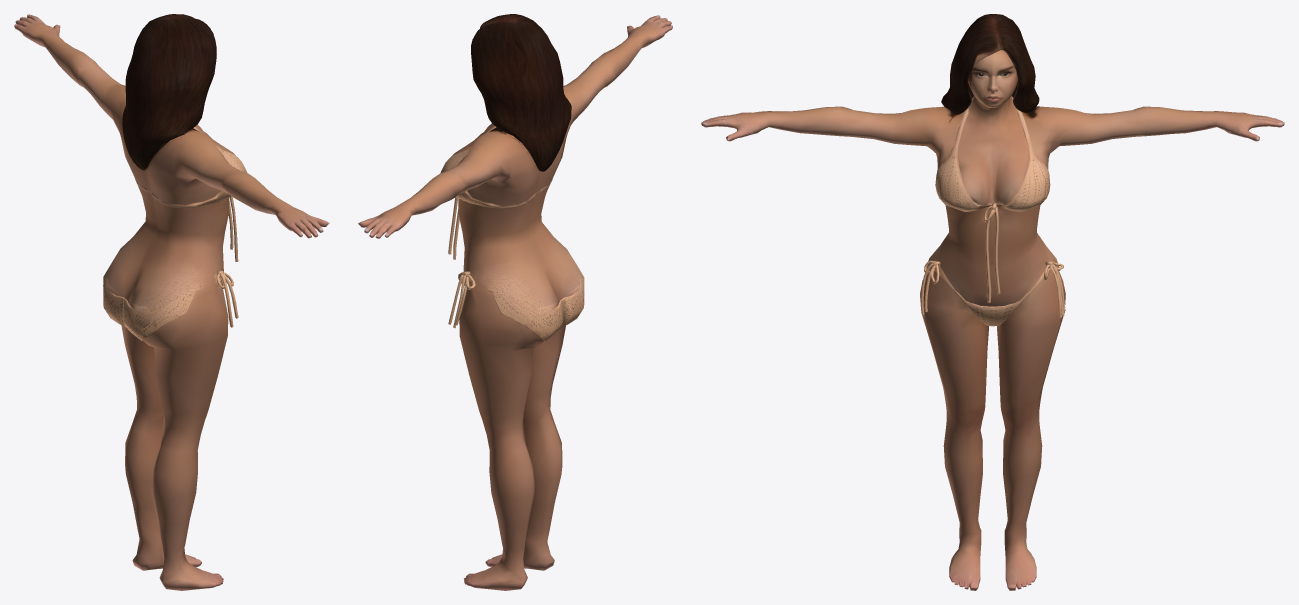
File: bikinimodel3d.glb
3 renders of one model, left to right at view 1: azimuth 30°, elevation 25°; view 2: azimuth 150°, elevation 25°; view 3: azimuth 270°, elevation 25°, orthographic.
Parts seen in each view (by area): view 1: tripo_node_8a93f2ee-98b8-4b7d-9dba-5c7e18c002c3; view 2: tripo_node_8a93f2ee-98b8-4b7d-9dba-5c7e18c002c3; view 3: tripo_node_8a93f2ee-98b8-4b7d-9dba-5c7e18c002c3.
Part boxes in pixels (x1=…): tripo_node_8a93f2ee-98b8-4b7d-9dba-5c7e18c002c3: x1=14, y1=14, x2=329, y2=590; tripo_node_8a93f2ee-98b8-4b7d-9dba-5c7e18c002c3: x1=358, y1=14, x2=672, y2=590; tripo_node_8a93f2ee-98b8-4b7d-9dba-5c7e18c002c3: x1=701, y1=14, x2=1284, y2=590.
Size of the model in its own units: 0.2183 by 0.9995 by 0.9526.
Materials: 1 (1 with a texture image).
